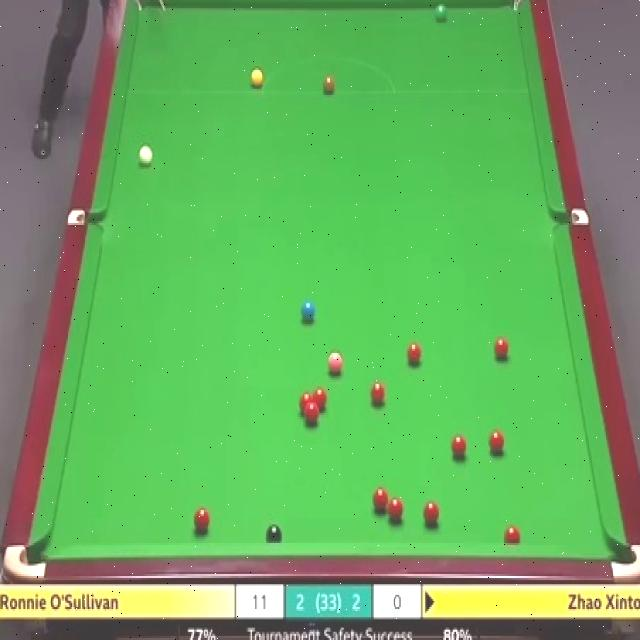black-ball: (266, 521, 284, 544)
blue-ball: (300, 300, 316, 325)
brown-ball: (321, 73, 335, 96)
green-ball: (433, 3, 449, 23)
pink-ball: (328, 348, 343, 375)
red-ball: (387, 494, 405, 526), (406, 341, 423, 370), (422, 501, 439, 528), (487, 428, 504, 455), (372, 486, 389, 513), (369, 381, 386, 407), (451, 434, 466, 460), (494, 335, 509, 361), (195, 506, 210, 532), (313, 388, 328, 413), (504, 524, 521, 544), (299, 392, 313, 413), (305, 405, 319, 425)
white-ball: (138, 144, 152, 168)
yellow-ball: (248, 67, 264, 88)
